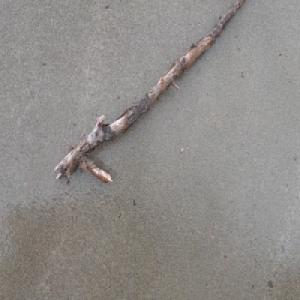Wood: (52, 0, 247, 186)
